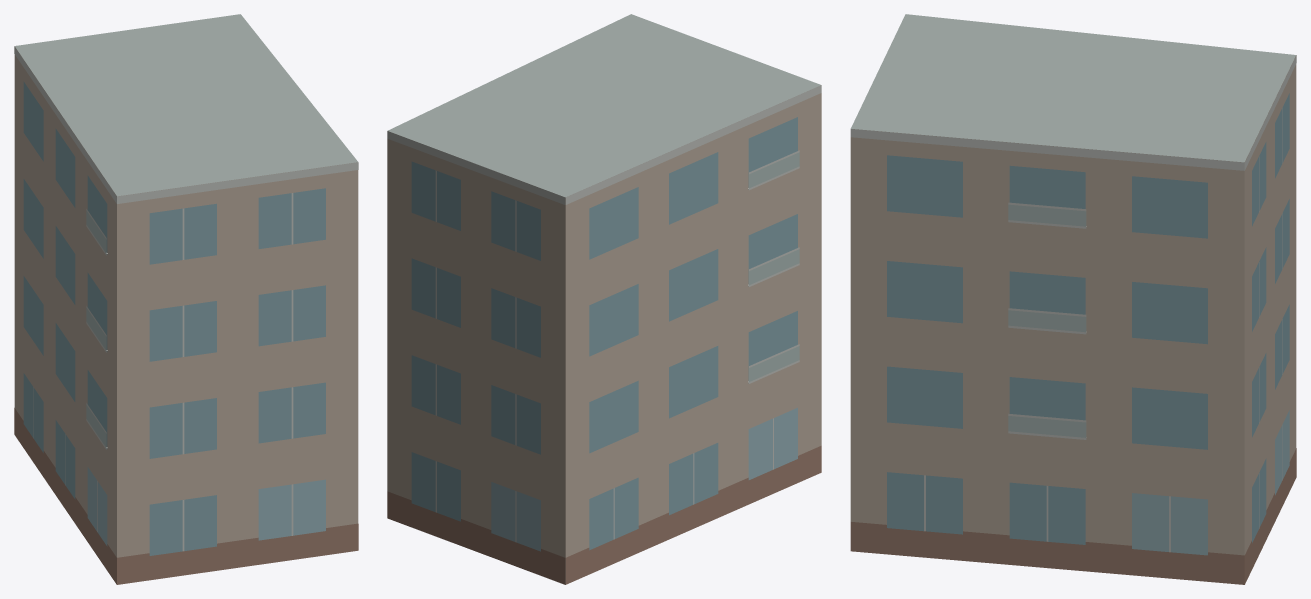
The model's file is survey-upis-32914567.glb.
3 renders of one model, left to right at view 1: azimuth 30°, elevation 25°; view 2: azimuth 150°, elevation 25°; view 3: azimuth 270°, elevation 25°, orthographic. The views are drawn at different scales.
Parts seen in each view (by area): view 1: survey-upis-32914567.tmp; view 2: survey-upis-32914567.tmp; view 3: survey-upis-32914567.tmp.
Part boxes in pixels (x1,y1,x2,y2): survey-upis-32914567.tmp: [14, 14, 358, 584]; survey-upis-32914567.tmp: [387, 14, 821, 584]; survey-upis-32914567.tmp: [850, 14, 1296, 584].
Size of the model in its own units: 9.16 by 12.15 by 11.63.
